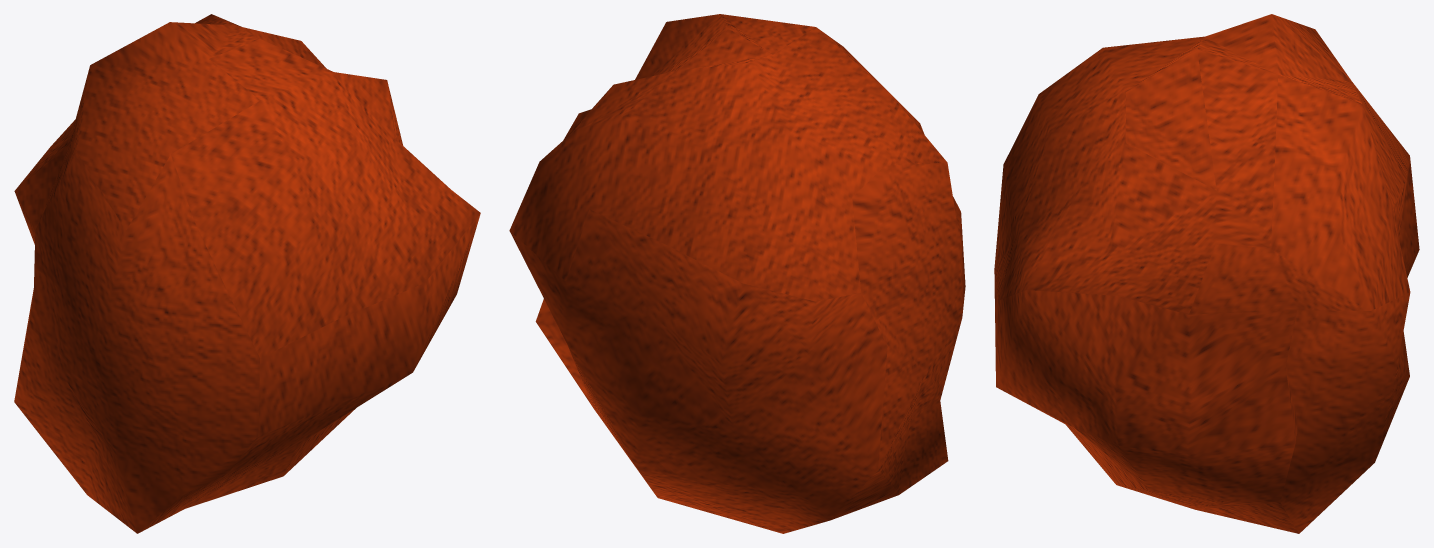
Rendered from stone-02.obj.
3 renders of one model, left to right at view 1: azimuth 30°, elevation 25°; view 2: azimuth 150°, elevation 25°; view 3: azimuth 270°, elevation 25°, orthographic. The views are drawn at different scales.
Visible parts, largest first — view 1: Stone.845_Cube.1474; view 2: Stone.845_Cube.1474; view 3: Stone.845_Cube.1474.
Part boxes in pixels (<box>): Stone.845_Cube.1474: <box>14,14,480,533</box>; Stone.845_Cube.1474: <box>509,14,965,533</box>; Stone.845_Cube.1474: <box>994,14,1419,533</box>.
Bounding box in the file's own units: 3.02 × 3.93 × 2.99.
1 material, 1 textured.
